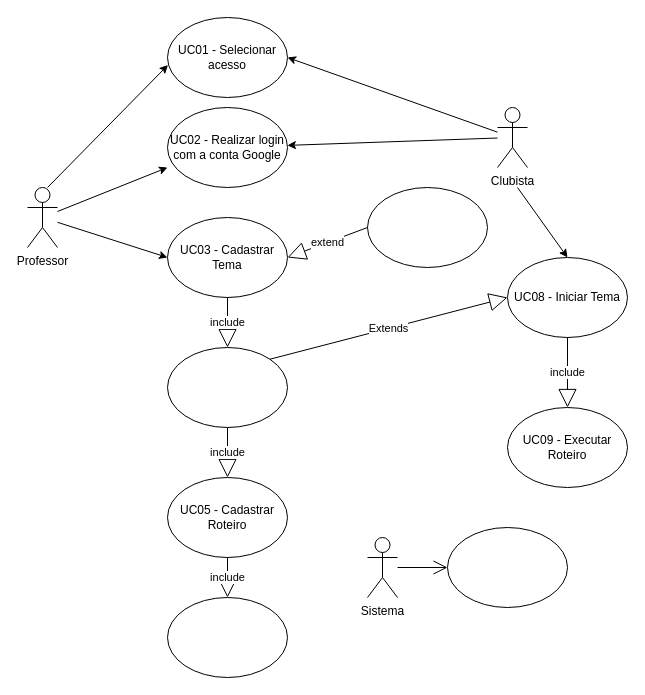
This 645x695 diagram has some shape labels left out. Each missing label, with the centre of its shape:
UC04 - Cadastrar Objetivos Específicos: the point at 227,387
UC06 - Cadastrar Atividades: the point at 227,637
UC07 - Gerar QRCode: the point at 427,227
UC10 - Sincronizar Tema: the point at 507,567
